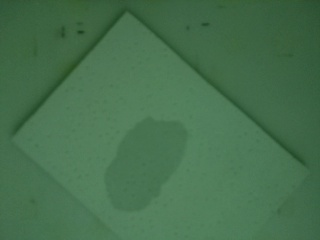Water_detected: (118, 131, 186, 202)
